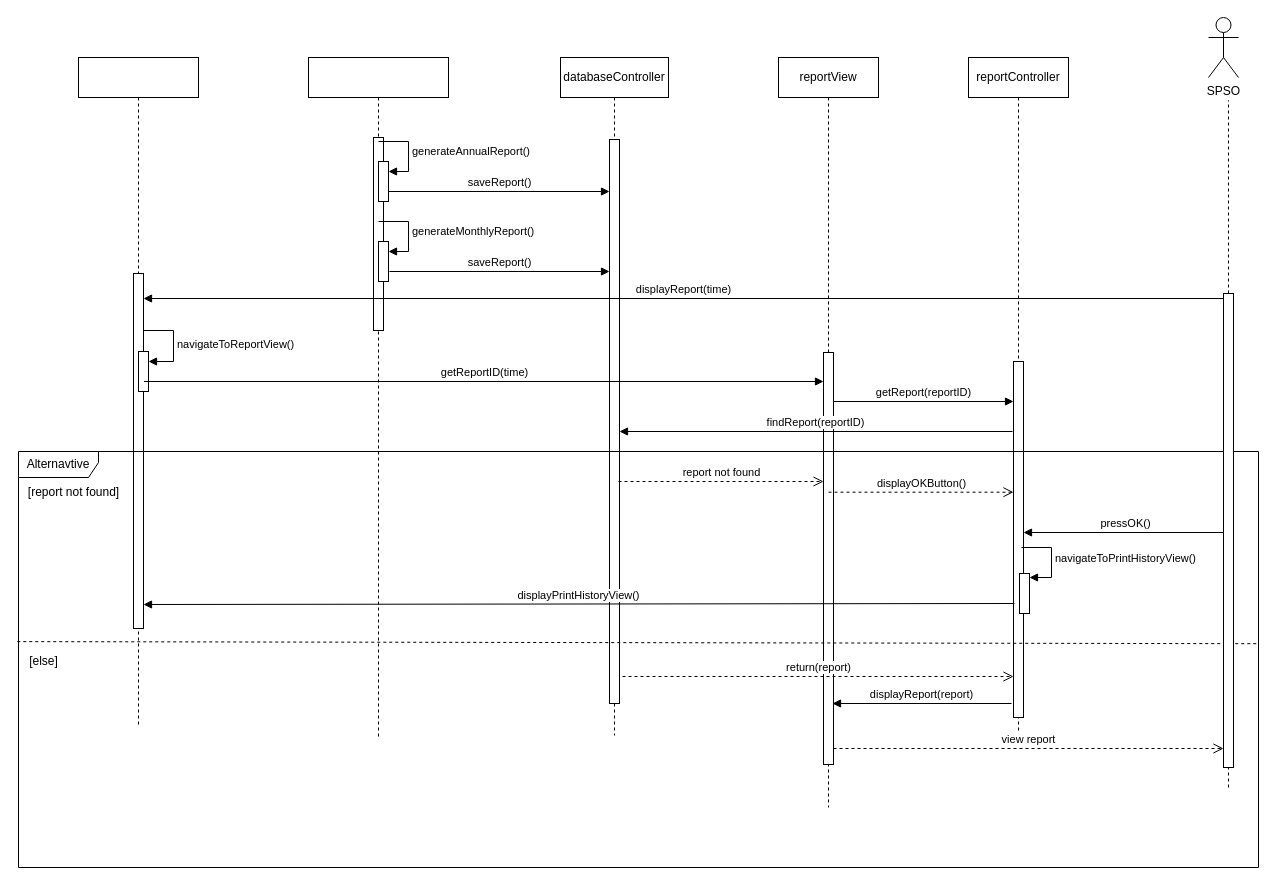
Image size: 1278x885. Some labels were removed from this diagram. The box of each missing label's shape, as (x1, y1, x2, y2) in pixels:
printingHistoryController: (308, 56, 448, 738)
printingHistoryView: (78, 56, 198, 726)
